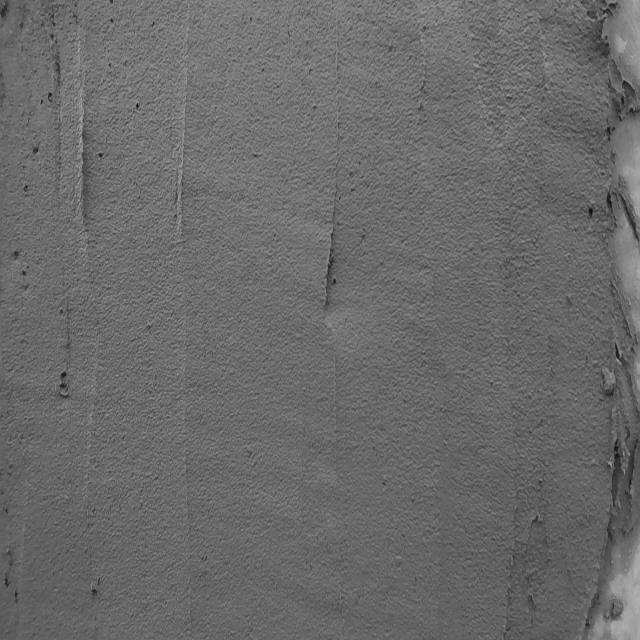trowels marks: (72, 48, 104, 535), (173, 18, 191, 277), (324, 156, 342, 365)
